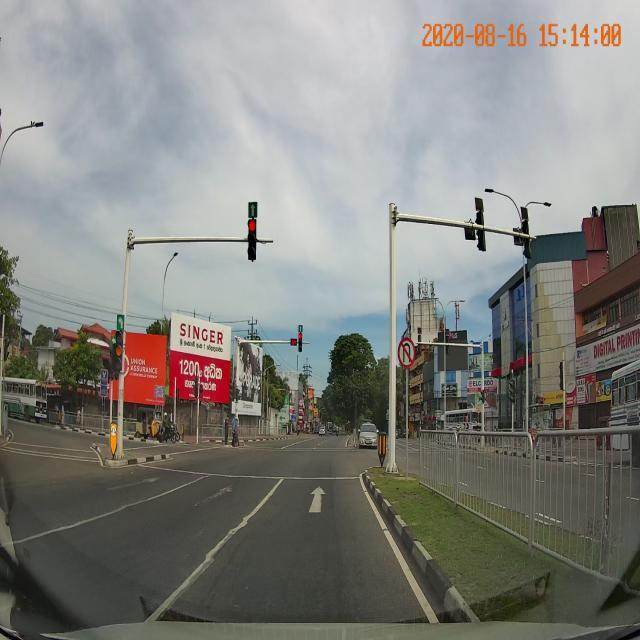forward: (209, 480, 401, 548)
